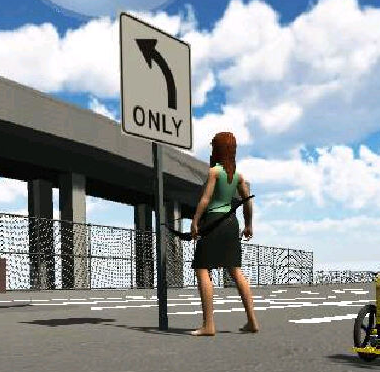arrow_left: (127, 35, 184, 111)
